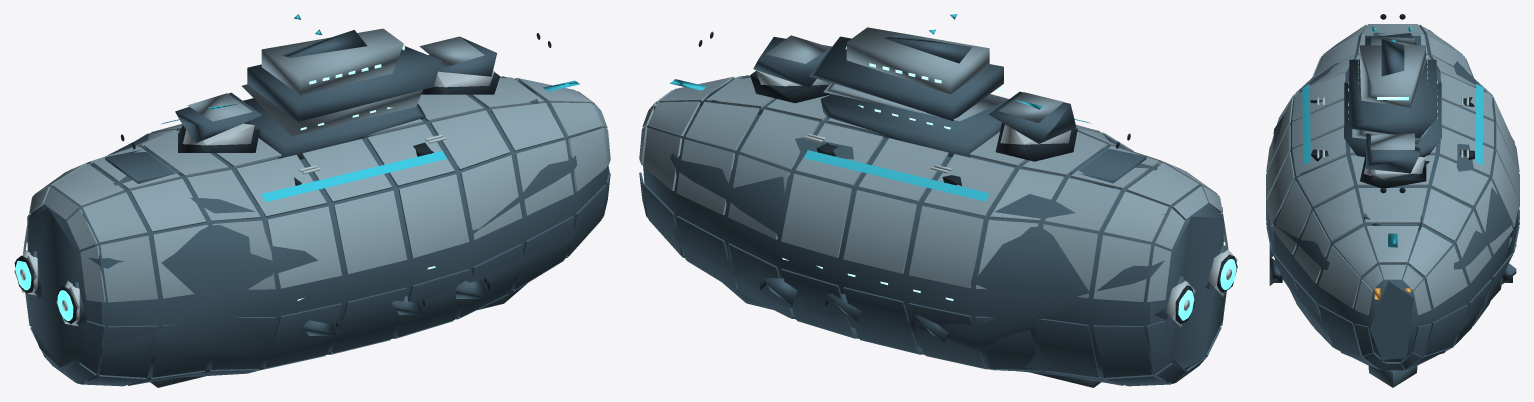
The model's file is warship-overview.glb.
3 views of the same model, side by side, from view 1: azimuth 30°, elevation 25°; view 2: azimuth 150°, elevation 25°; view 3: azimuth 270°, elevation 25° (orthographic). The views are drawn at different scales.
Visible parts, largest first — view 1: Battery A / barrel.004, Battery A / muzzle sleeve.004, Battery A / gun cradle.004, Battery A / barbette.002, Battery A / faction marking.002, Drive / luminous core.004; view 2: Battery A / barrel.004, Battery A / muzzle sleeve.004, Battery A / barbette.002, Battery A / gun cradle.004, Battery A / faction marking.002, Drive / luminous core.004; view 3: Battery A / muzzle sleeve.004, Battery A / barrel.004, Battery A / faction marking.002, Battery A / barbette.002, Battery A / gun cradle.004.
Part boxes in pixels (<box>): Battery A / barrel.004: <box>25,30,610,387</box>; Battery A / muzzle sleeve.004: <box>23,28,610,302</box>; Battery A / gun cradle.004: <box>14,70,494,326</box>; Battery A / barbette.002: <box>14,33,551,327</box>; Battery A / faction marking.002: <box>160,14,579,202</box>; Drive / luminous core.004: <box>15,260,73,320</box>; Battery A / barrel.004: <box>639,35,1226,387</box>; Battery A / muzzle sleeve.004: <box>639,27,1228,301</box>; Battery A / barbette.002: <box>698,31,1237,326</box>; Battery A / gun cradle.004: <box>755,70,1237,327</box>; Battery A / faction marking.002: <box>670,14,1090,201</box>; Drive / luminous core.004: <box>1178,259,1236,320</box>; Battery A / muzzle sleeve.004: <box>1266,24,1519,315</box>; Battery A / barrel.004: <box>1266,28,1519,387</box>; Battery A / faction marking.002: <box>1302,27,1483,247</box>; Battery A / barbette.002: <box>1273,14,1512,282</box>; Battery A / gun cradle.004: <box>1317,97,1468,180</box>.
Size of the model in its own units: 25.49 by 13.85 by 11.85.
